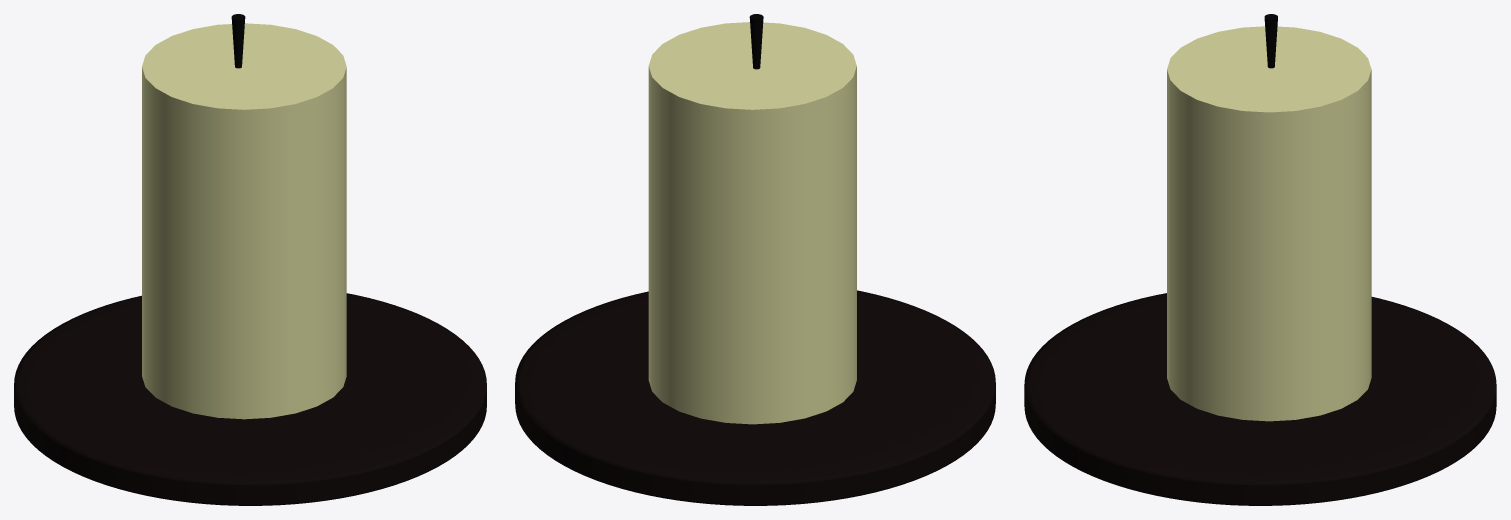
The model's file is only_candle.FBX.
3 renders of one model, left to right at view 1: azimuth 30°, elevation 25°; view 2: azimuth 150°, elevation 25°; view 3: azimuth 270°, elevation 25°, orthographic.
Visible parts, largest first — view 1: Cone004, Cone003, Cone005; view 2: Cone004, Cone003, Cone005; view 3: Cone004, Cone003, Cone005.
Part boxes in pixels (left/top/right/bottom): Cone004: left=142, top=23, right=346, bottom=419; Cone003: left=14, top=293, right=486, bottom=505; Cone005: left=231, top=14, right=245, bottom=68; Cone004: left=648, top=22, right=856, bottom=424; Cone003: left=515, top=290, right=995, bottom=505; Cone005: left=749, top=14, right=763, bottom=69; Cone004: left=1167, top=26, right=1371, bottom=421; Cone003: left=1024, top=293, right=1496, bottom=505; Cone005: left=1264, top=14, right=1277, bottom=68.
Size of the model in its own units: 13.85 by 12.65 by 13.85.
